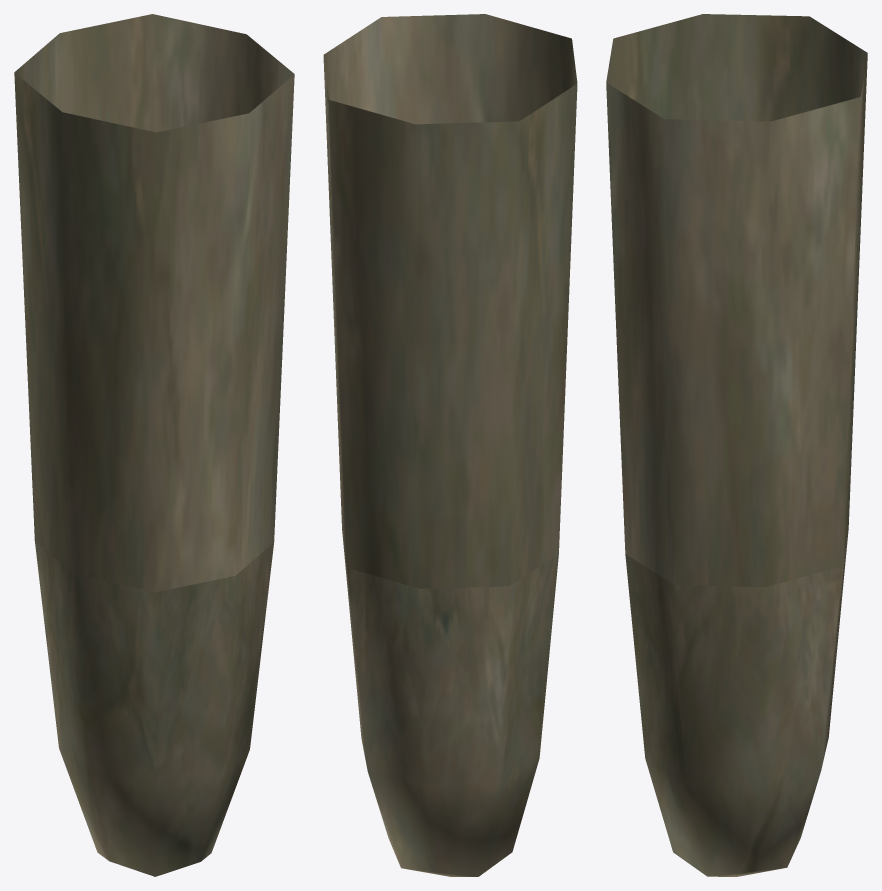
Rendered from EKH_CAVERNS_PS_CA_STLAG_425592.fbx.
The picture shows the model from 3 angles, left to right: view 1: azimuth 30°, elevation 25°; view 2: azimuth 150°, elevation 25°; view 3: azimuth 270°, elevation 25°; orthographic projection.
Parts seen in each view (by area): view 1: EKH_CAVERNS_PS_CA_STLAG_425592; view 2: EKH_CAVERNS_PS_CA_STLAG_425592; view 3: EKH_CAVERNS_PS_CA_STLAG_425592.
Boxes of the visible parts, x1,y1,x2,y2 form: EKH_CAVERNS_PS_CA_STLAG_425592: (14, 14, 294, 876); EKH_CAVERNS_PS_CA_STLAG_425592: (323, 14, 577, 876); EKH_CAVERNS_PS_CA_STLAG_425592: (606, 14, 867, 876).
Size of the model in its own units: 19132 by 67129 by 19671.
1 material, 1 textured.
